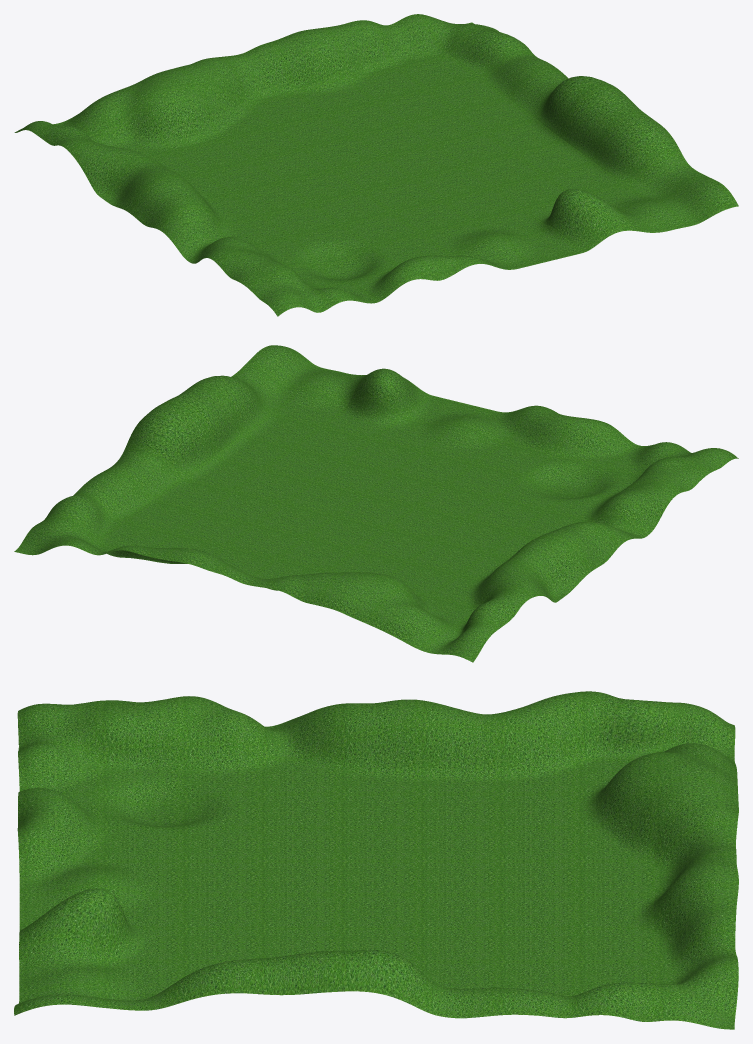
File: grassland.glb
The picture shows the model from 3 angles, top to bottom: view 1: azimuth 30°, elevation 25°; view 2: azimuth 150°, elevation 25°; view 3: azimuth 270°, elevation 25°; orthographic projection. The views are drawn at different scales.
Visible parts, largest first — view 1: Grass_0; view 2: Grass_0; view 3: Grass_0.
Part boxes in pixels (left/top/right/bottom): Grass_0: left=14, top=14, right=738, bottom=316; Grass_0: left=14, top=345, right=738, bottom=662; Grass_0: left=14, top=691, right=738, bottom=1029.
Size of the model in its own units: 69.82 by 7.98 by 69.2.
Materials: 81 (81 with a texture image).
